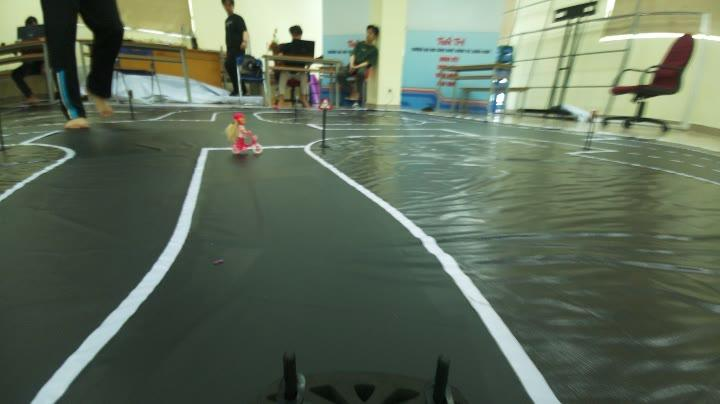pedestrian: (222, 109, 267, 160)
